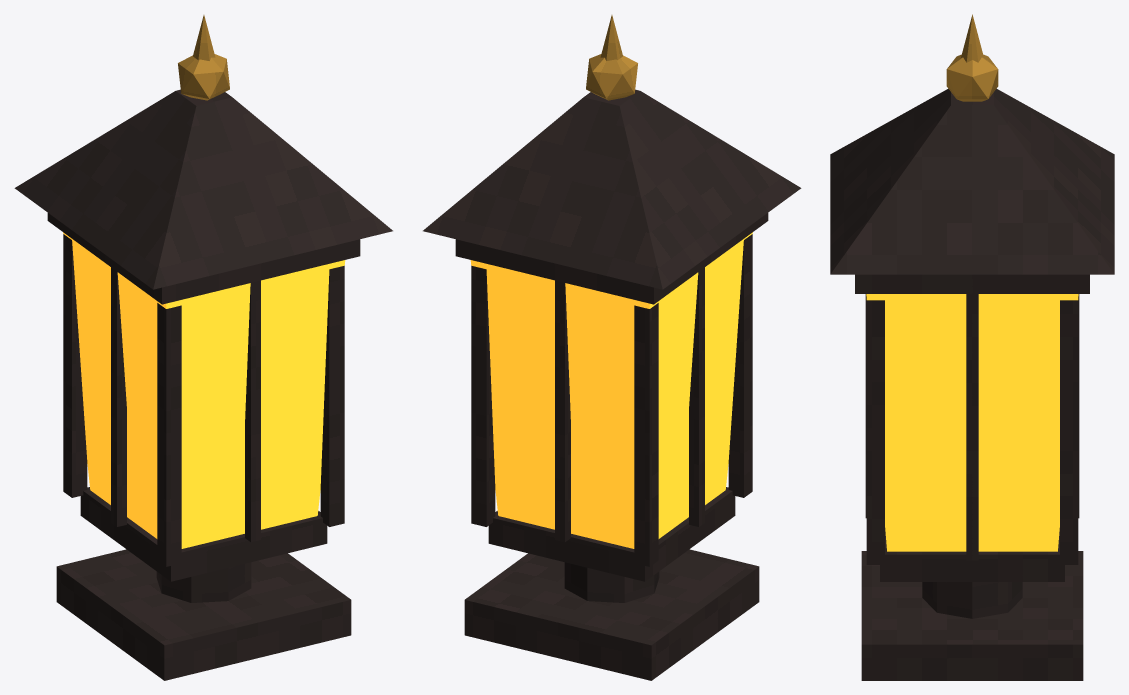
The model's file is post_lantern.glb.
3 views of the same model, side by side, from view 1: azimuth 30°, elevation 25°; view 2: azimuth 150°, elevation 25°; view 3: azimuth 270°, elevation 25° (orthographic). The views are drawn at different scales.
Visible parts, largest first — view 1: PostLantern; view 2: PostLantern; view 3: PostLantern.
Part boxes in pixels (left/top/right/bottom): PostLantern: left=14, top=15, right=392, bottom=680; PostLantern: left=423, top=15, right=801, bottom=680; PostLantern: left=830, top=14, right=1114, bottom=680.
Size of the model in its own units: 0.2828 by 0.68 by 0.2828.
3 materials, 2 textured.
